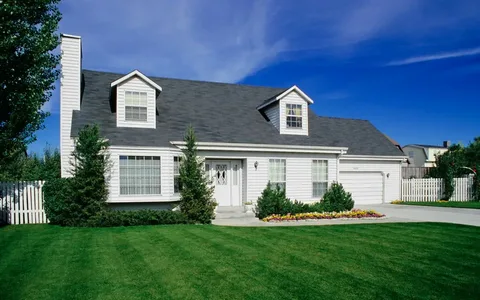private_hause: (57, 58, 411, 213)
